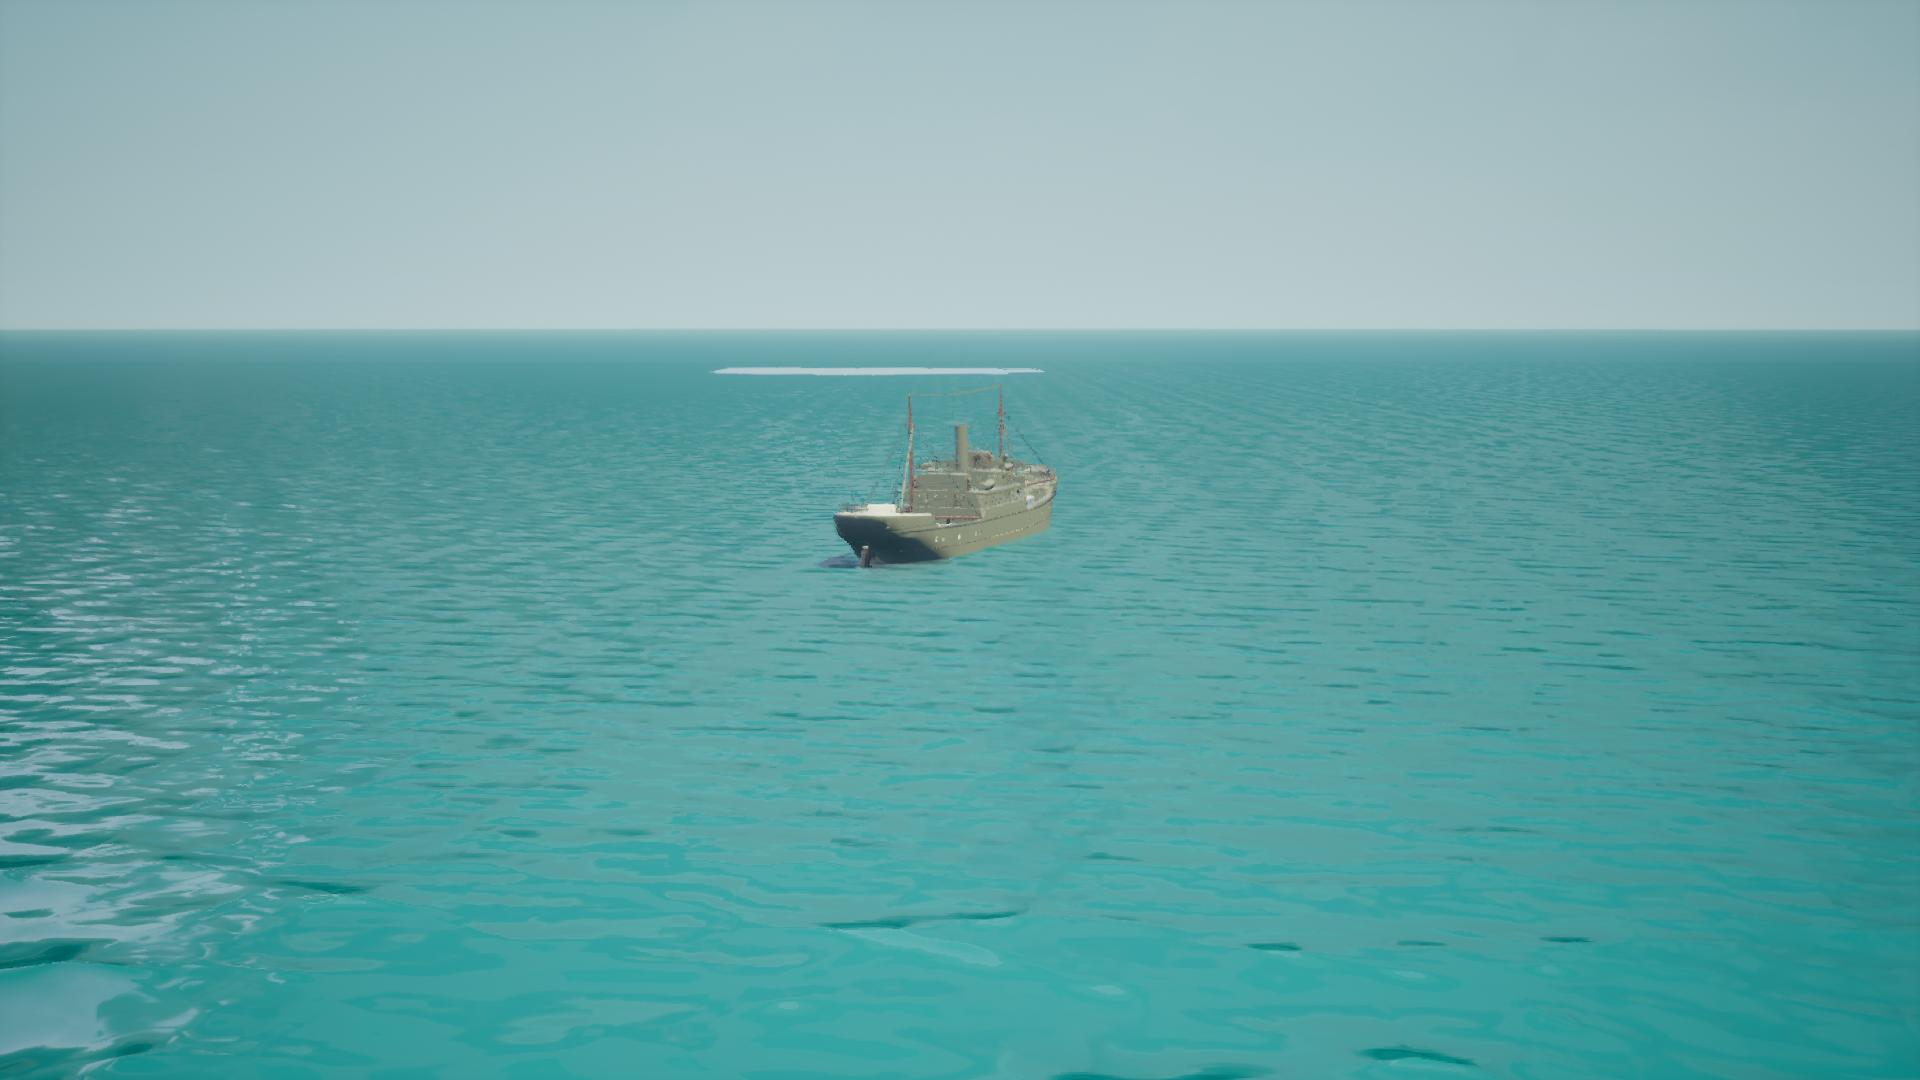Fishing Boat: (829, 384, 1063, 568)
